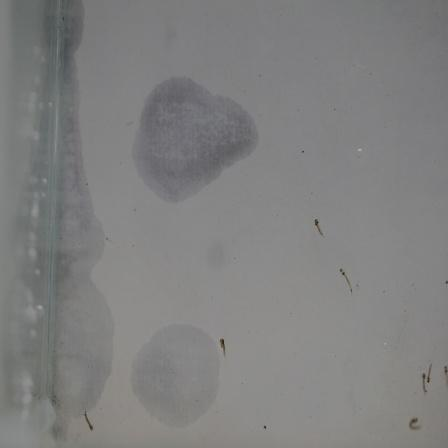Jentik-Nyamuk: (336, 262, 361, 303), (414, 358, 439, 399), (78, 406, 99, 437), (405, 410, 426, 441), (308, 214, 327, 239), (216, 334, 231, 361)
